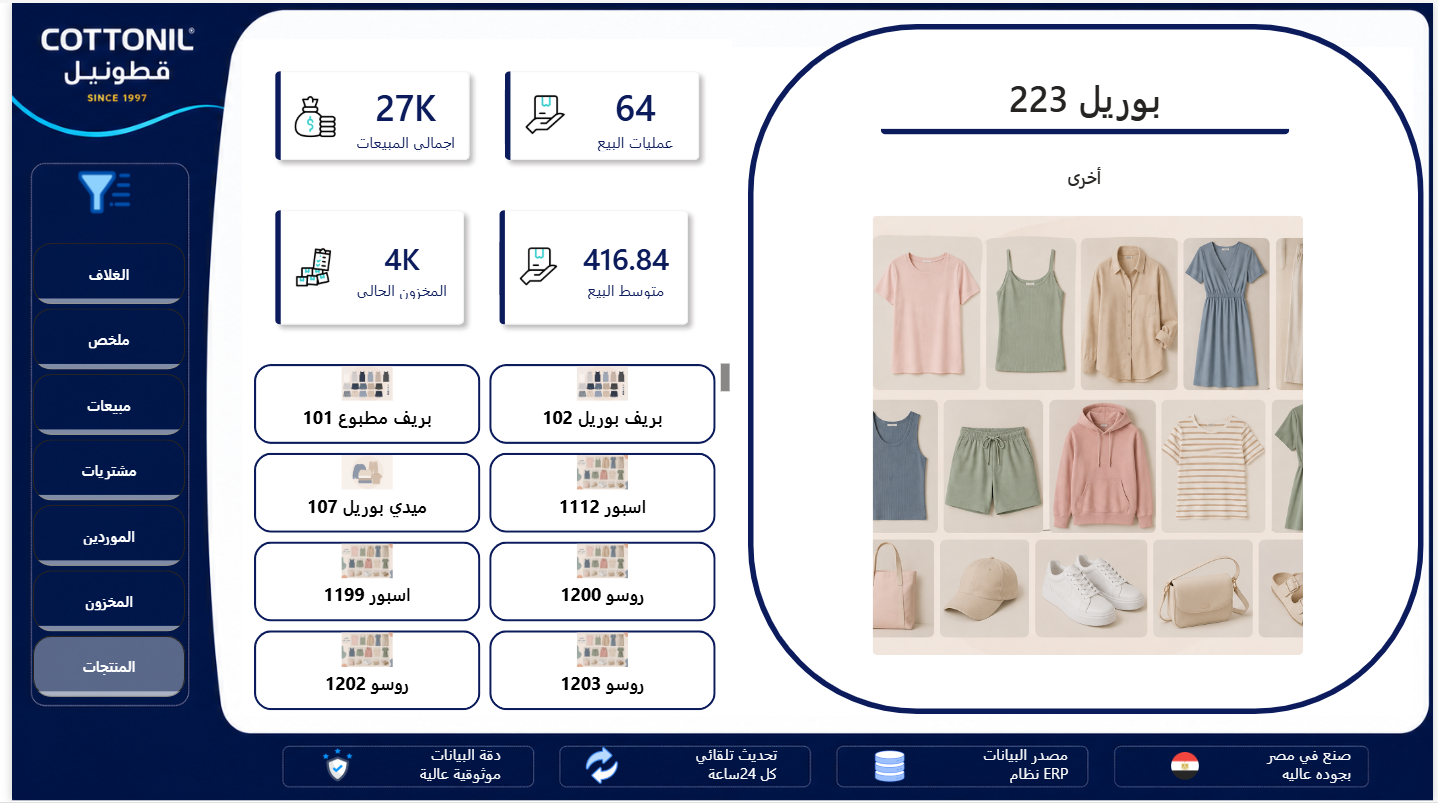

The dashboard page shown, as its layout file describes it:
{"tool":"powerbi","page":{"name":"المنتجات","canvas":[1280,720],"ordinal":6},"visuals":[{"type":"shape","box":[207.5,39.9,1055.5,602.6],"z":0},{"type":"shape","box":[663.2,19.1,608.8,621.9],"z":1000},{"type":"textbox","box":[358.6,663.2,90.8,46.4],"z":3000},{"type":"textbox","box":[603.6,663.2,90.8,46.4],"z":4000},{"type":"textbox","box":[865.6,663.2,90.8,46.4],"z":5000},{"type":"textbox","box":[1121.1,663.2,90.8,46.4],"z":6000},{"type":"image","box":[1043.5,674.5,27.4,24.6],"z":7000},{"type":"image","box":[274.4,671.7,38.8,30.3],"z":8000},{"type":"image","box":[509.9,669.8,43.5,35],"z":9000},{"type":"image","box":[752.1,673.6,76.6,29.3],"z":10000},{"type":"advancedSlicerVisual","fields":{"Values":["كل الأصناف.الصنف"]},"box":[212.4,319.7,439.7,323.2],"z":11000},{"type":"cardVisual","fields":{"Data":["Min(كل الأصناف.الصنف)"]},"box":[766,32.3,402.1,103.8],"z":12000},{"type":"cardVisual","fields":{"Data":["Min(كل الأصناف.التصنيف العام)"]},"box":[778.6,124.5,375.7,62.2],"z":13000},{"type":"cardVisual","fields":{"Data":["-measure.اجمالي المبيعات","-measure.عمليات البيع"]},"box":[207.8,32.3,440.9,138.5],"z":14000},{"type":"cardVisual","fields":{"Data":["-measure.المخزون الحالي","-measure.متوسط البيع"]},"box":[207.8,158.1,431.7,161.6],"z":15000},{"type":"cardVisual","fields":{"Data":["Min(ProductImagesTable (2).ImageURL)"]},"box":[770,186.5,398.1,406.2],"z":16000},{"type":"pageNavigator","box":[19,216.5,137.7,409],"z":17000},{"type":"actionButton","box":[53.2,140.3,70.2,60],"z":18000}]}

Visuals, with their boxes on the page's 1280x720 design canvas (x1, y1, x2, y2). These are canvas units, not pixel positions in the 1438x803 screenshot, which may show the page scaled, cropped or inside an application window:
shape: <bbox>208, 40, 1263, 642</bbox>
shape: <bbox>663, 19, 1272, 641</bbox>
textbox: <bbox>359, 663, 449, 710</bbox>
textbox: <bbox>604, 663, 694, 710</bbox>
textbox: <bbox>866, 663, 956, 710</bbox>
textbox: <bbox>1121, 663, 1212, 710</bbox>
image: <bbox>1044, 674, 1071, 699</bbox>
image: <bbox>274, 672, 313, 702</bbox>
image: <bbox>510, 670, 553, 705</bbox>
image: <bbox>752, 674, 829, 703</bbox>
advancedSlicerVisual - كل الأصناف.الصنف: <bbox>212, 320, 652, 643</bbox>
cardVisual - Min(كل الأصناف.الصنف): <bbox>766, 32, 1168, 136</bbox>
cardVisual - Min(كل الأصناف.التصنيف العام): <bbox>779, 124, 1154, 187</bbox>
cardVisual - -measure.اجمالي المبيعات x -measure.عمليات البيع: <bbox>208, 32, 649, 171</bbox>
cardVisual - -measure.المخزون الحالي x -measure.متوسط البيع: <bbox>208, 158, 640, 320</bbox>
cardVisual - Min(ProductImagesTable (2).ImageURL): <bbox>770, 186, 1168, 593</bbox>
pageNavigator: <bbox>19, 216, 157, 626</bbox>
actionButton: <bbox>53, 140, 123, 200</bbox>
